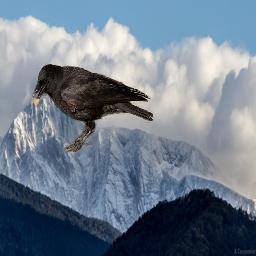Crow: (31, 62, 154, 152)
